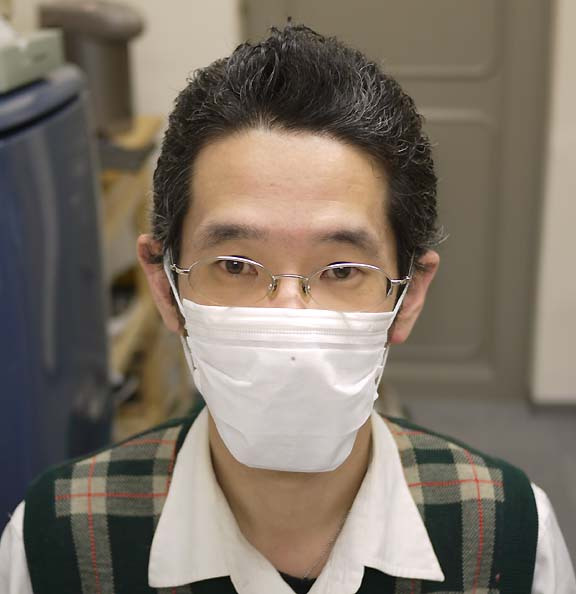mask: (177, 308, 396, 473)
